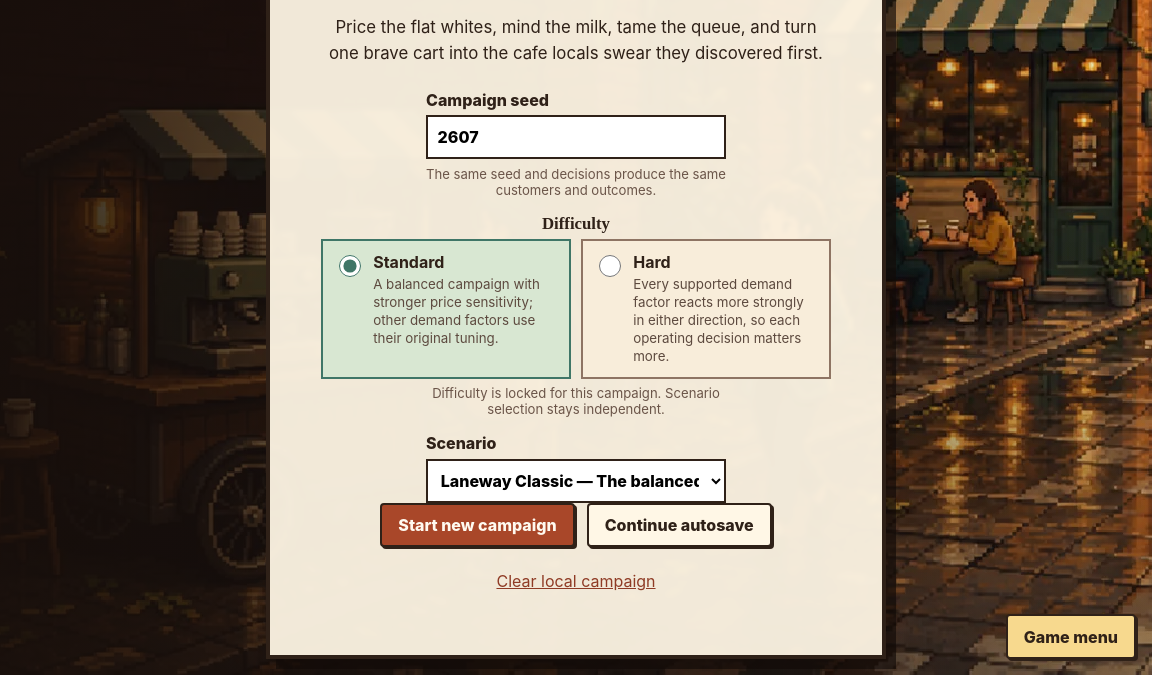
Test case: playable cart UI › restores colour-independent recent activity descriptions from autosave
The width and height of the screenshot is (1152, 675).
(page scrolled)
Click the button "Continue autosave" at [679, 525], box [587,503,772,548]
(page scrolled)
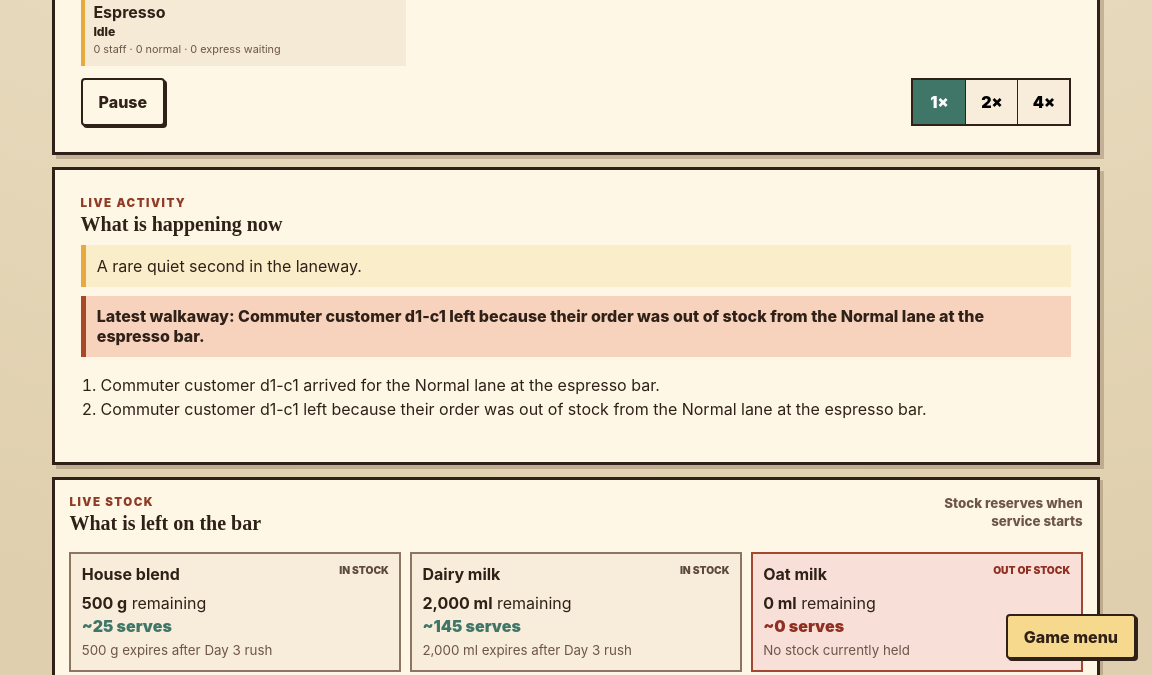
Expected: the 2nd list item is shown, [101,375,660,395]
